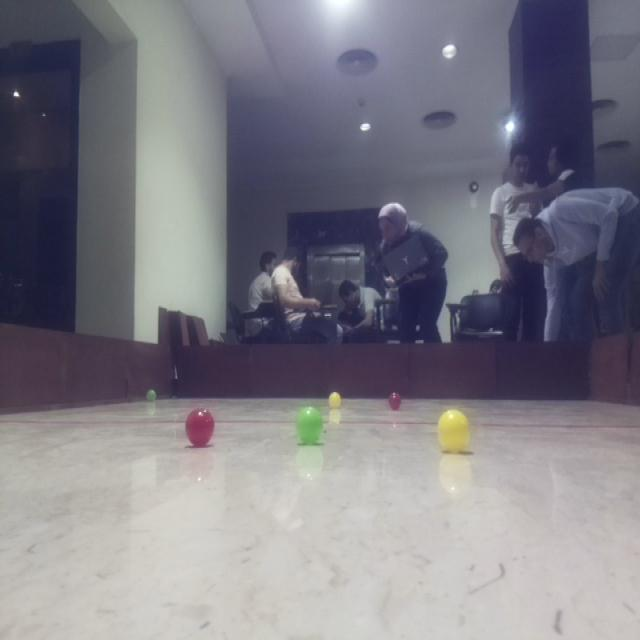ball: (433, 408, 474, 458), (182, 406, 220, 448), (294, 404, 326, 448), (324, 389, 345, 413), (385, 388, 406, 412), (142, 386, 162, 406)
